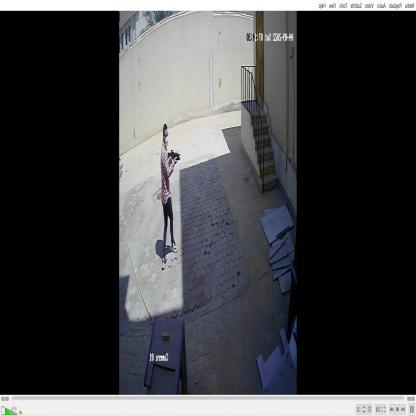handgun: (165, 148, 184, 166)
